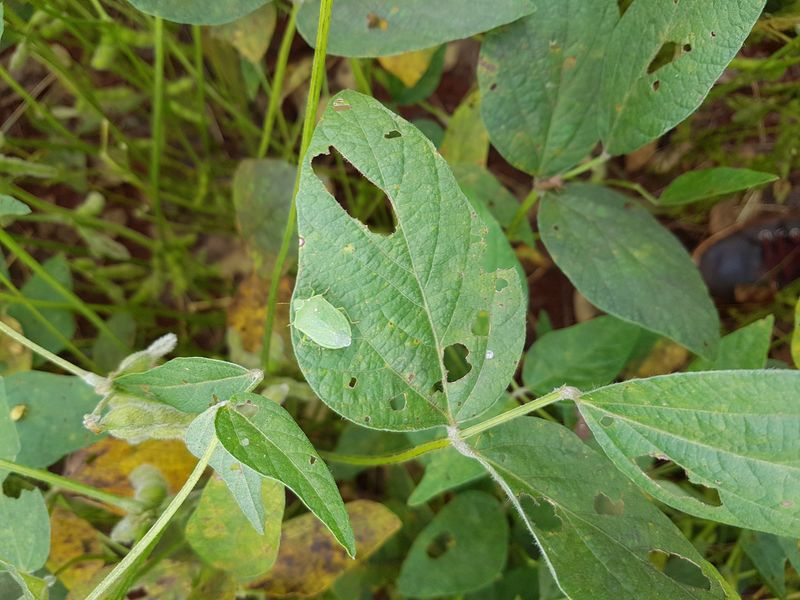Euschistus_heros_ninfa: (6, 401, 28, 426)
Nezara_viridula_adulto: (269, 276, 366, 362)
